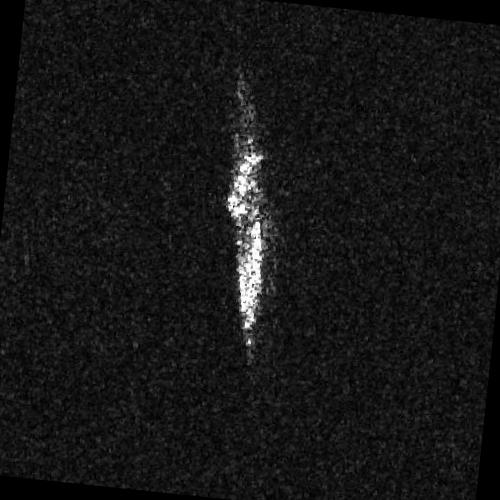ship: (225, 120, 266, 352)
